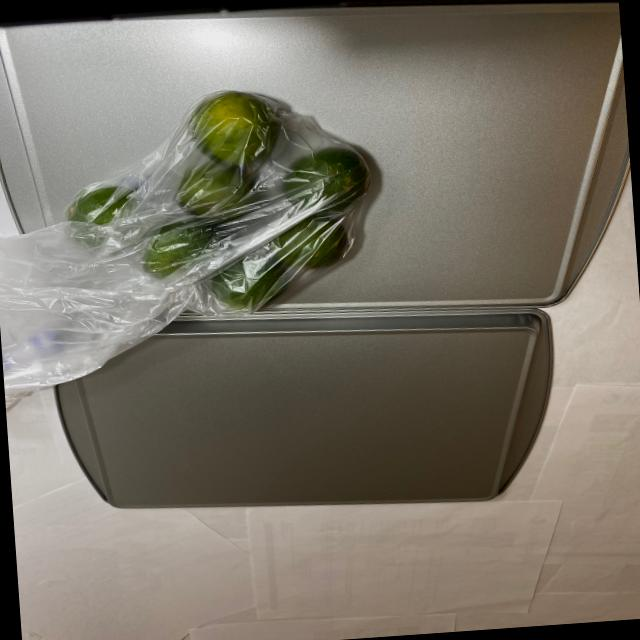lemon: (65, 82, 377, 322)
